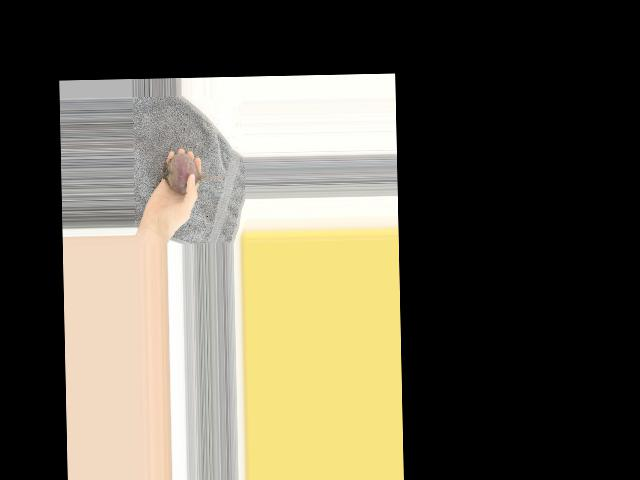beet: (161, 151, 229, 194)
